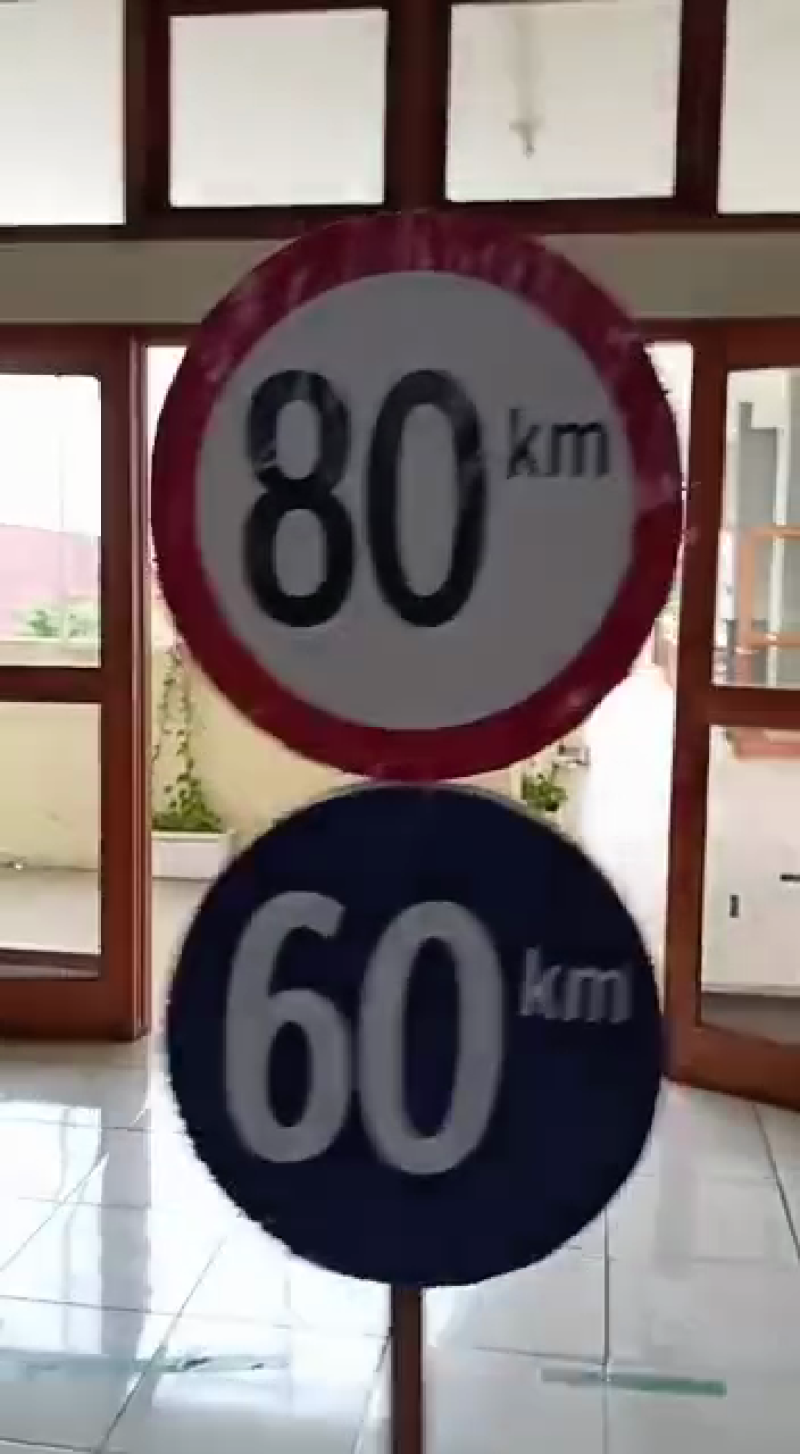batas maksimal 80kmperjam minimal 60kmperjam: (126, 187, 683, 1311)
